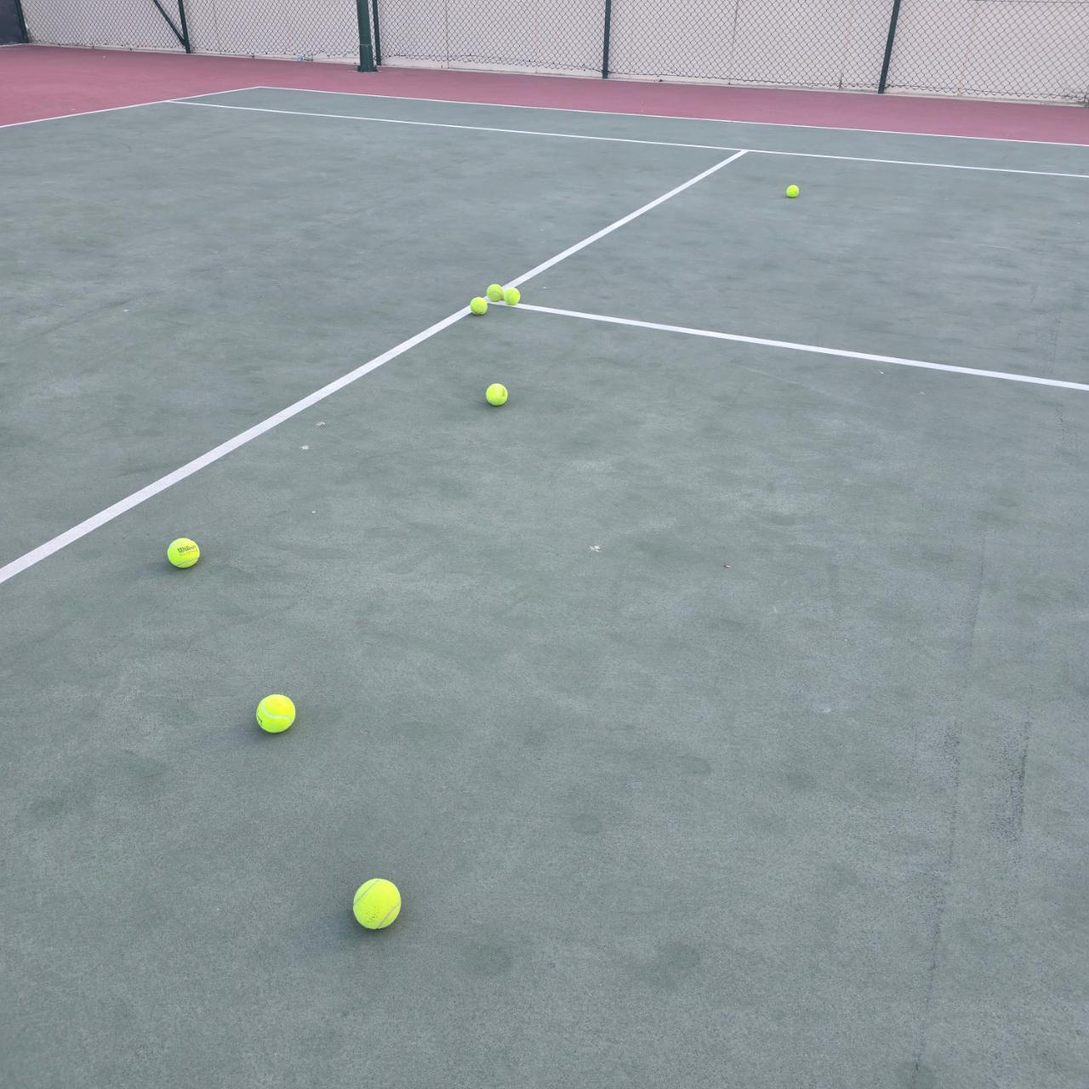tennis-ball: (351, 875, 402, 930), (254, 691, 296, 733), (165, 535, 200, 568), (484, 381, 508, 406), (486, 283, 503, 302), (470, 297, 487, 315), (503, 288, 520, 305), (786, 185, 800, 197)
